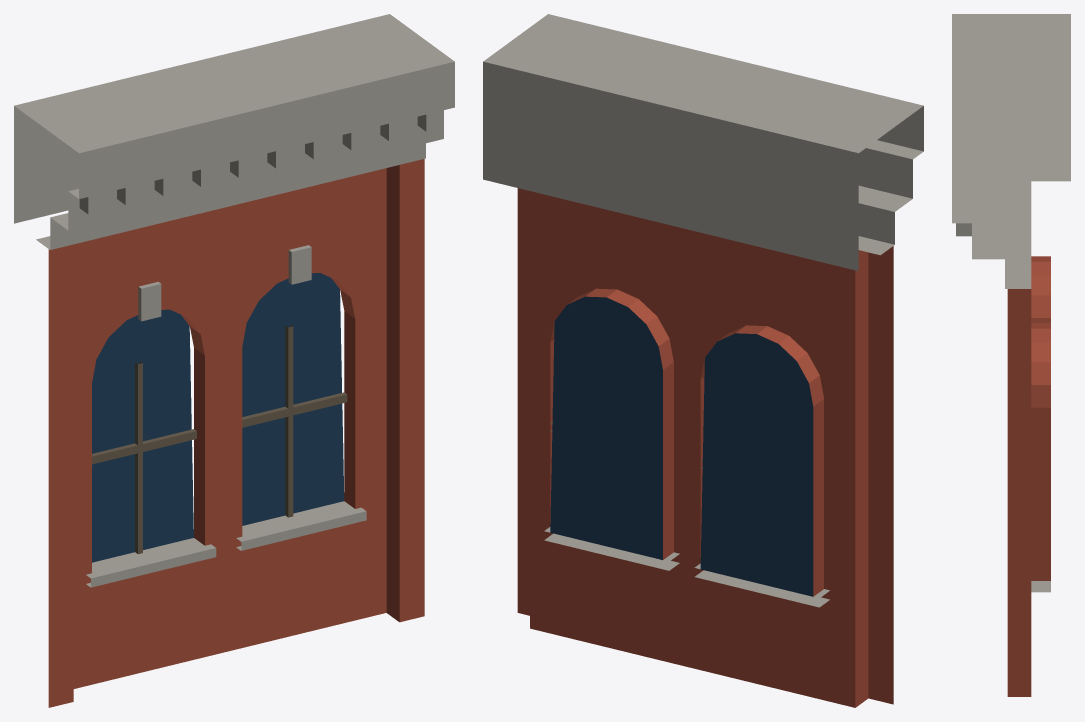
Rendered from top-w1_close.fbx.
The picture shows the model from 3 angles, left to right: view 1: azimuth 30°, elevation 25°; view 2: azimuth 150°, elevation 25°; view 3: azimuth 270°, elevation 25°; orthographic projection. The views are drawn at different scales.
Parts seen in each view (by area): view 1: a2012/600/top-w1_close; view 2: a2012/600/top-w1_close; view 3: a2012/600/top-w1_close.
Boxes of the visible parts, bbox=[...] form: a2012/600/top-w1_close: bbox=[14, 14, 454, 707]; a2012/600/top-w1_close: bbox=[483, 14, 923, 707]; a2012/600/top-w1_close: bbox=[952, 14, 1070, 696].
Size of the model in its own units: 3 by 4.4 by 0.9.
